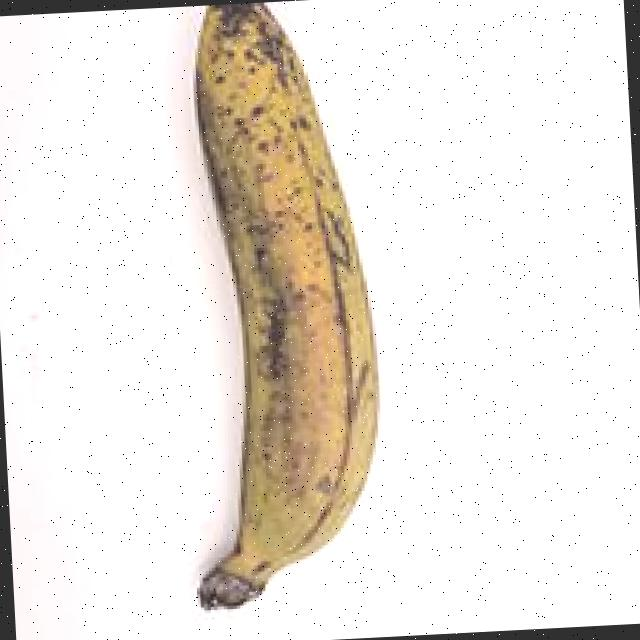Overripe: (85, 0, 466, 628)
